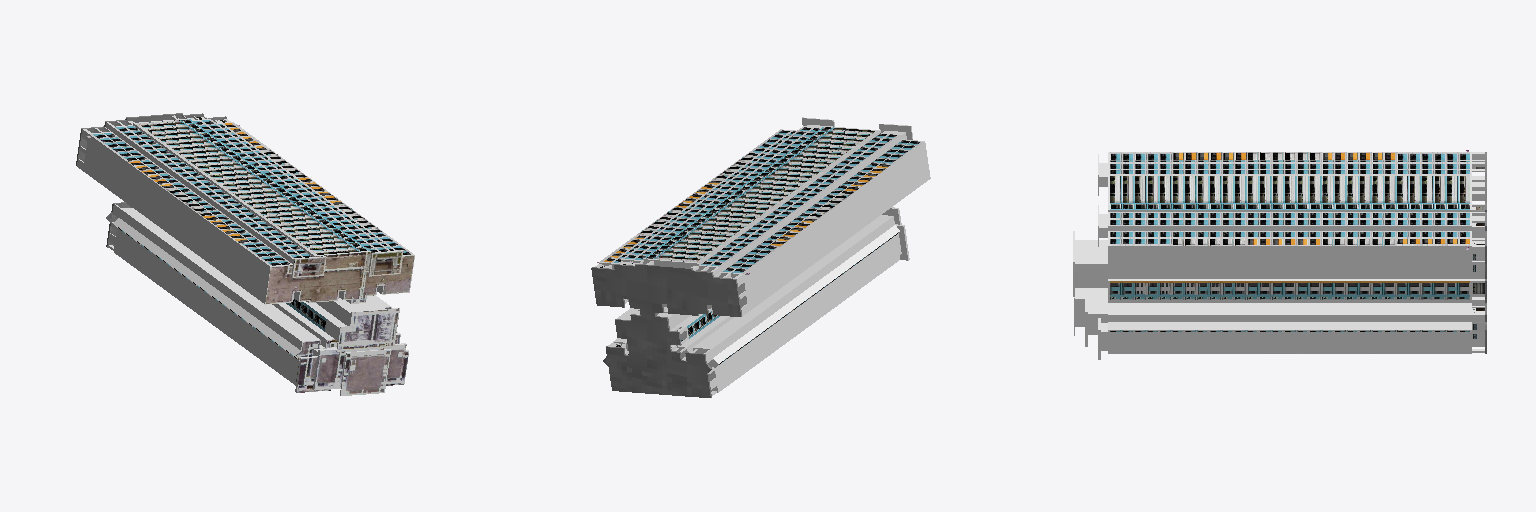
3 views of the same model, side by side, from view 1: azimuth 30°, elevation 25°; view 2: azimuth 150°, elevation 25°; view 3: azimuth 270°, elevation 25° (orthographic).
Parts seen in each view (by area): view 1: polygon.823; view 2: polygon.823; view 3: polygon.823.
Part boxes in pixels (left/top/right/bottom): polygon.823: left=76, top=113, right=414, bottom=395; polygon.823: left=591, top=117, right=930, bottom=397; polygon.823: left=1073, top=150, right=1486, bottom=359.
Bounding box in the file's own units: 40.7 × 38.65 × 95.02.
1 materials, 1 textured.